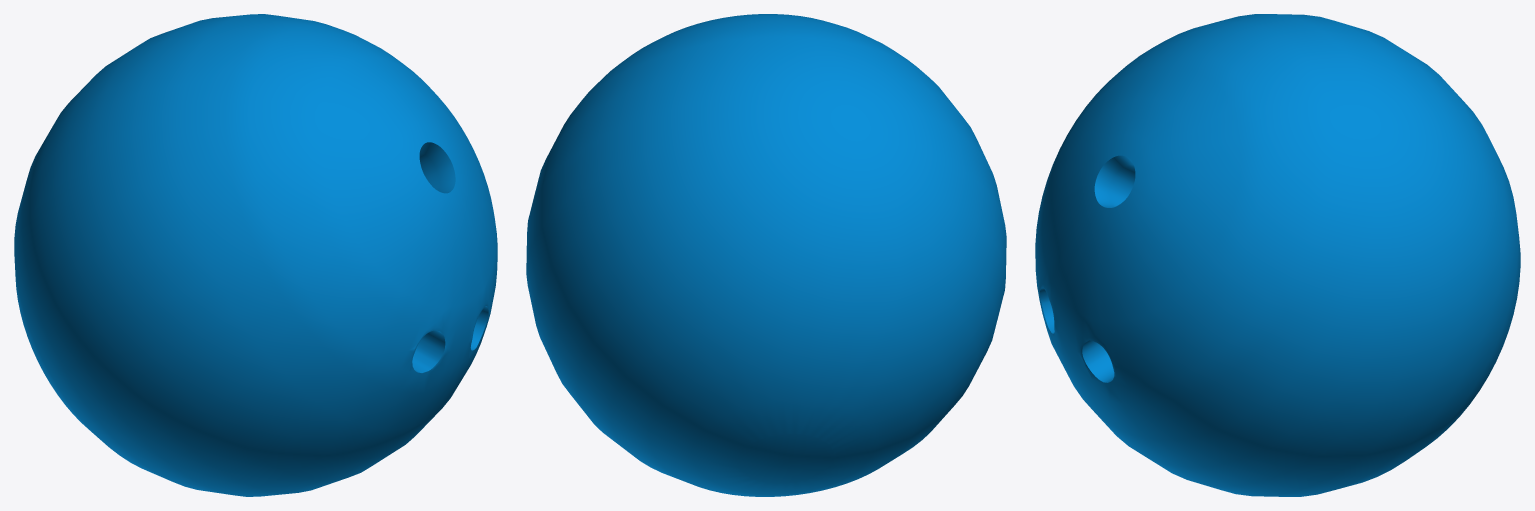
Rendered from Ball.FBX.
The picture shows the model from 3 angles, left to right: view 1: azimuth 30°, elevation 25°; view 2: azimuth 150°, elevation 25°; view 3: azimuth 270°, elevation 25°; orthographic projection.
Visible parts, largest first — view 1: ball__1_; view 2: ball__1_; view 3: ball__1_.
Boxes of the visible parts, x1,y1,x2,y2 form: ball__1_: [14, 14, 497, 496]; ball__1_: [526, 14, 1006, 496]; ball__1_: [1035, 14, 1520, 496].
Size of what is drawn, in the model's own units: 101 by 102 by 102.
